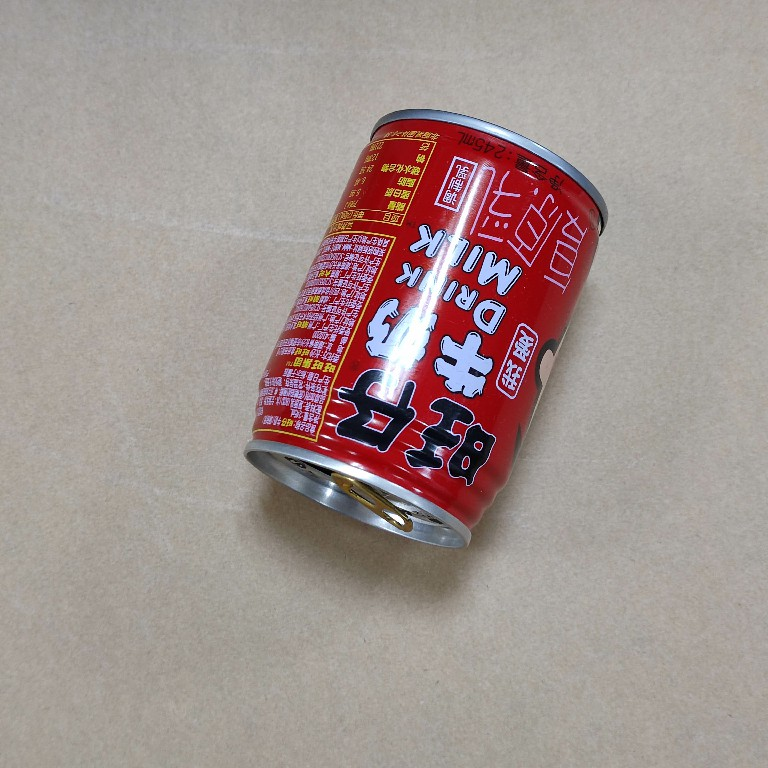can: (239, 104, 616, 562)
